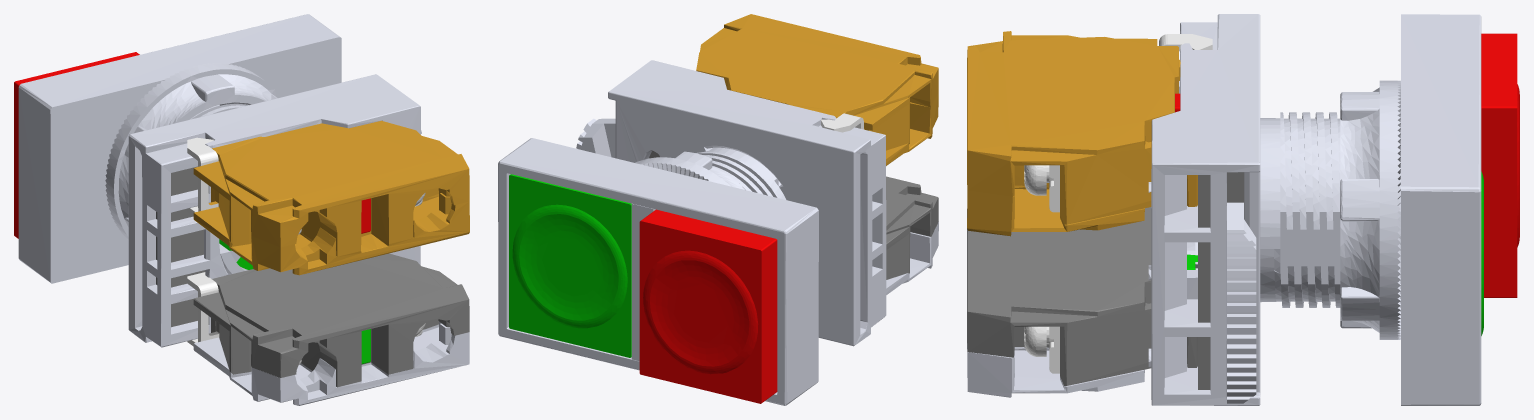
The model's file is nhd-npb22-d11.glb.
3 views of the same model, side by side, from view 1: azimuth 30°, elevation 25°; view 2: azimuth 150°, elevation 25°; view 3: azimuth 270°, elevation 25° (orthographic). The views are drawn at different scales.
Visible parts, largest first — view 1: Node2, Node3, Node6, Node1, Node5, Node4, Node8; view 2: Node2, Node1, Node8, Node7, Node3, Node6, Node5, Node4; view 3: Node2, Node3, Node1, Node6, Node5, Node8, Node4.
Part boxes in pixels (x1,y1,x2,y2): Node2: (18,14,421,347); Node3: (193,120,469,275); Node6: (156,166,469,387); Node1: (105,63,375,329); Node5: (193,321,469,405); Node4: (187,137,425,364); Node8: (14,52,370,238); Node2: (498,60,886,405); Node1: (499,91,855,404); Node8: (639,209,777,403); Node7: (509,174,631,357); Node3: (696,14,938,165); Node6: (649,150,938,279); Node5: (577,131,938,294); Node4: (821,113,863,132); Node2: (1148,14,1481,405); Node3: (967,31,1197,236); Node1: (1195,14,1400,404); Node6: (967,172,1244,389); Node5: (967,133,1400,403); Node8: (1175,33,1519,297); Node4: (1024,34,1212,373).
Bounding box in the file's own units: 48.79 × 30.19 × 61.8.
